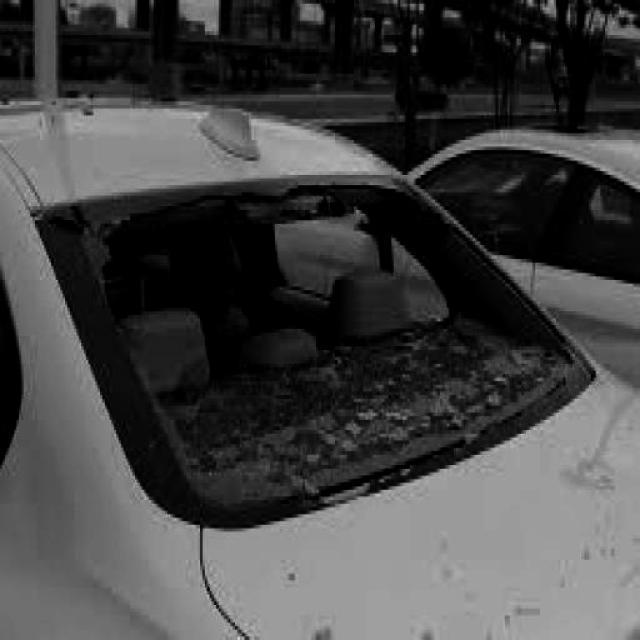car damage: (93, 166, 591, 518)
